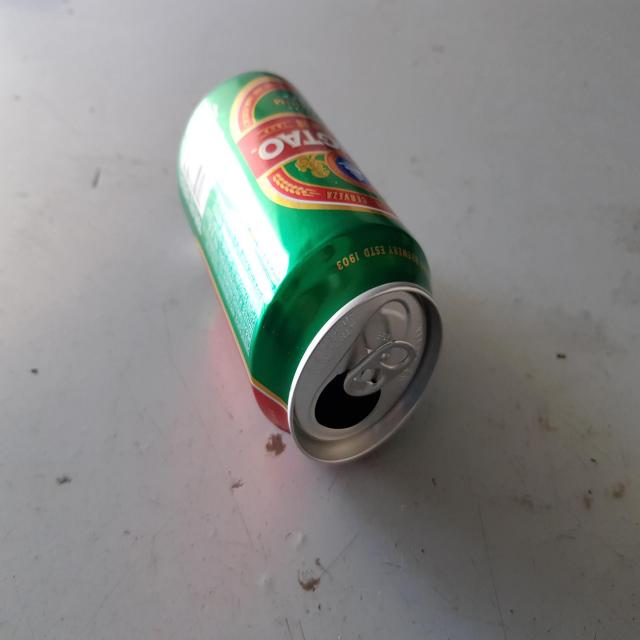can: (178, 72, 443, 462)
